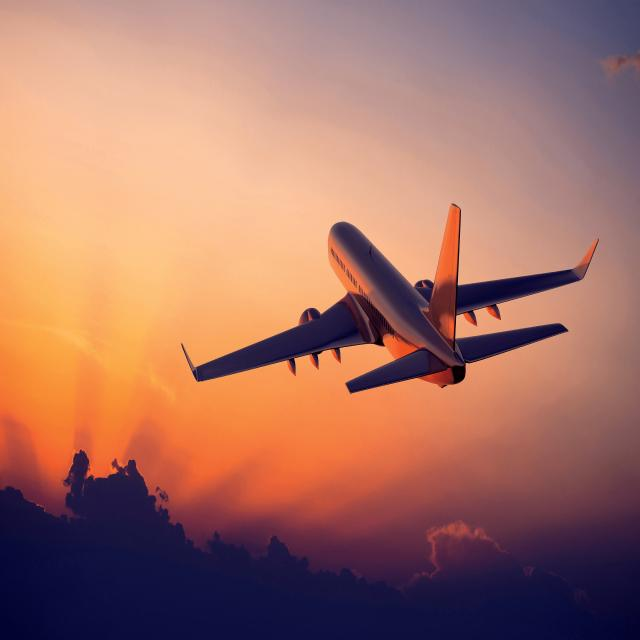plain: (179, 190, 605, 414)
